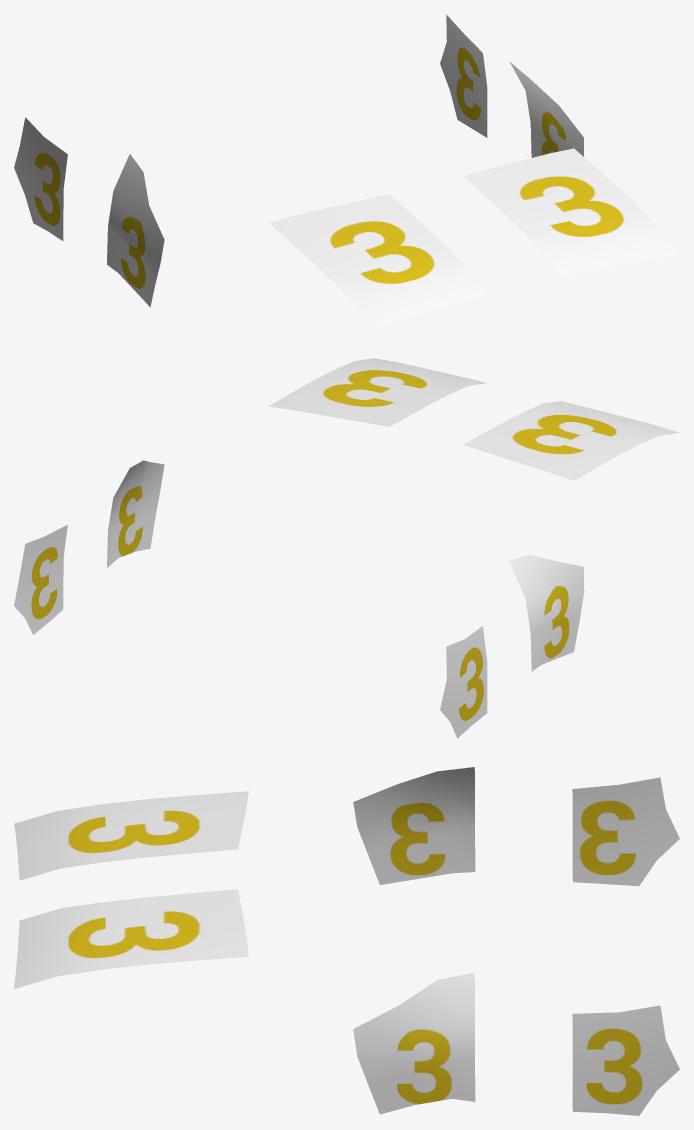
The model's file is Car_14_Decals.fbx.
3 renders of one model, top to bottom at view 1: azimuth 30°, elevation 25°; view 2: azimuth 150°, elevation 25°; view 3: azimuth 270°, elevation 25°, orthographic. The views are drawn at different scales.
Visible parts, largest first — view 1: Car_14_Decals; view 2: Car_14_Decals; view 3: Car_14_Decals.
Part boxes in pixels (box(x1,y1,x2,y2)): Car_14_Decals: box(14, 14, 679, 329); Car_14_Decals: box(14, 358, 679, 738); Car_14_Decals: box(14, 767, 679, 1115).
Bounding box in the file's own units: 178 × 217 × 47.33.
